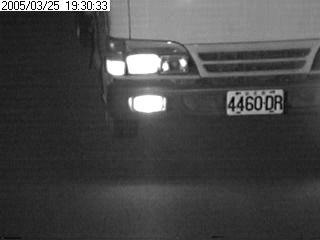plate: (225, 88, 286, 116)
